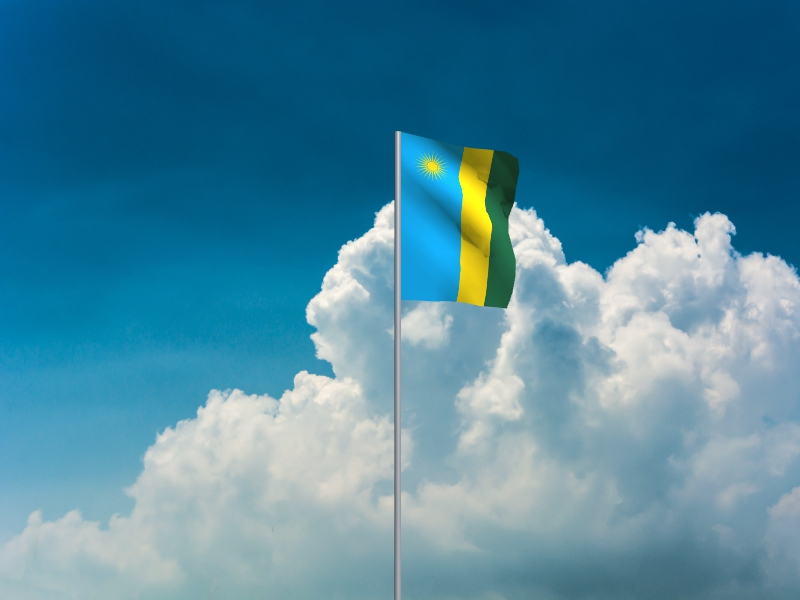rw: (401, 133, 521, 310)
